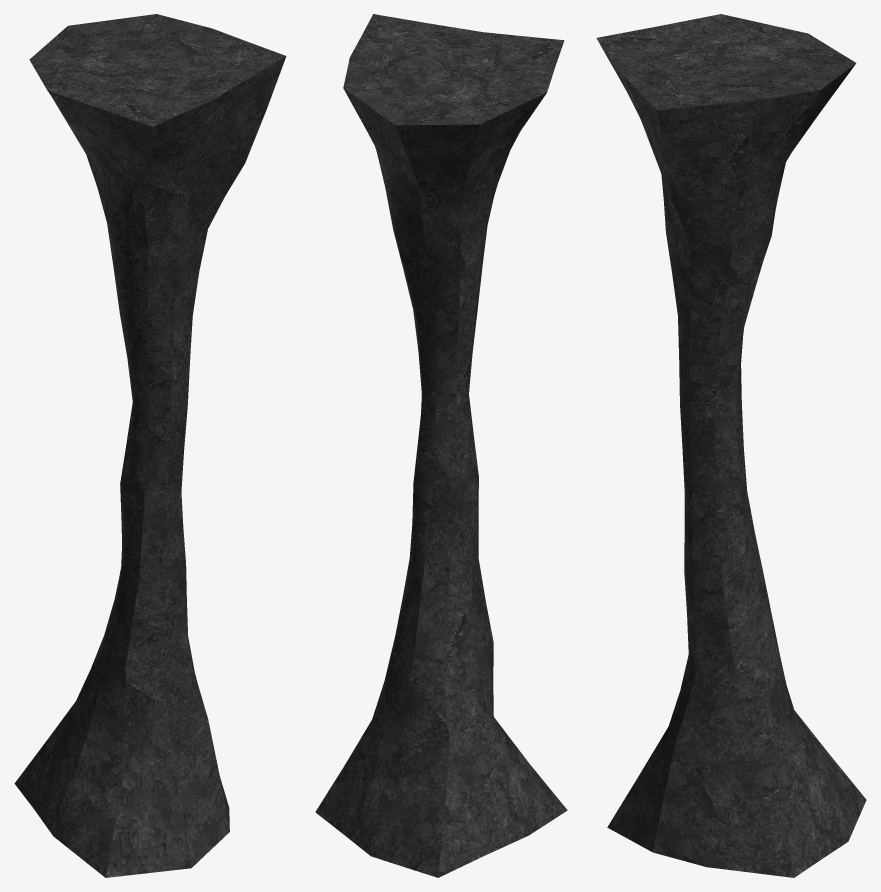
File: CaveStalagmitePillarBig.glb
3 views of the same model, side by side, from view 1: azimuth 30°, elevation 25°; view 2: azimuth 150°, elevation 25°; view 3: azimuth 270°, elevation 25° (orthographic). The views are drawn at different scales.
Visible parts, largest first — view 1: Cylinder.020; view 2: Cylinder.020; view 3: Cylinder.020.
Boxes of the visible parts, x1,y1,x2,y2 form: Cylinder.020: (14,14,286,877); Cylinder.020: (315,14,567,877); Cylinder.020: (596,14,866,877).
Bounding box in the file's own units: 3.61 × 12.77 × 4.
1 material, 1 textured.
